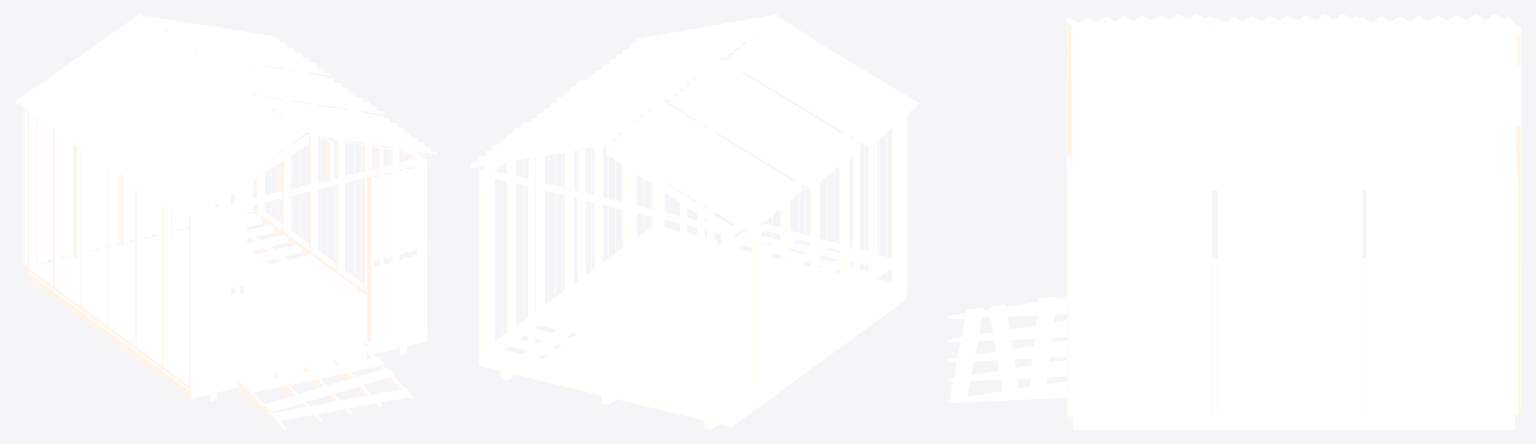
Rendered from shack.gltf.
3 renders of one model, left to right at view 1: azimuth 30°, elevation 25°; view 2: azimuth 150°, elevation 25°; view 3: azimuth 270°, elevation 25°, orthographic. The views are drawn at different scales.
Visible parts, largest first — view 1: Frame, Sheeting..006, Sheeting..004, Sheeting..005, Sheeting. (×2), Floorboards.002, Floorboards.001, Sheeting..008, Sheeting..007, Floorboards.003, Sheeting..011, Sheeting..009 (+11 smaller); view 2: Frame, Sheeting..006, Sheeting..005, Sheeting..004, Floorboards.001, Floorboards.003, Sheeting..011, Sheeting..010, Sheeting..009, Floorboards.002, Floorboards, Floorboards.004 (+6 smaller); view 3: Sheeting..012, Sheeting..014, Sheeting..013, Sheeting..011, Sheeting..010, Sheeting..009, Frame, Sheeting..006, Sheeting..004, Sheeting..005, Sheeting..015, Floorboards (+2 smaller).
Boxes of the visible parts, x1,y1,x2,y2 form: Frame: [27, 19, 426, 429]; Sheeting..006: [15, 14, 200, 139]; Sheeting..004: [124, 94, 307, 219]; Sheeting..005: [71, 55, 254, 179]; Sheeting. (×2): [192, 200, 246, 387]; Floorboards.002: [247, 304, 372, 368]; Floorboards.001: [126, 235, 324, 323]; Sheeting..008: [373, 163, 427, 260]; Sheeting..007: [373, 252, 427, 349]; Floorboards.003: [82, 287, 285, 391]; Sheeting..011: [145, 16, 331, 75]; Sheeting..009: [255, 95, 438, 154]; Frame: [479, 17, 906, 429]; Sheeting..006: [608, 100, 804, 233]; Sheeting..005: [668, 58, 861, 189]; Sheeting..004: [726, 17, 918, 147]; Floorboards.001: [530, 283, 746, 394]; Floorboards.003: [689, 265, 906, 376]; Sheeting..011: [470, 97, 662, 168]; Sheeting..010: [531, 55, 719, 121]; Sheeting..009: [588, 14, 777, 79]; Floorboards.002: [647, 243, 804, 307]; Floorboards: [543, 233, 699, 326]; Floorboards.004: [631, 350, 790, 419]; Sheeting..012: [1366, 185, 1518, 415]; Sheeting..014: [1067, 185, 1212, 415]; Sheeting..013: [1217, 186, 1362, 415]; Sheeting..011: [1359, 29, 1518, 192]; Sheeting..010: [1212, 29, 1366, 192]; Sheeting..009: [1070, 30, 1219, 191]; Frame: [948, 22, 1514, 429]; Sheeting..006: [1359, 14, 1519, 32]; Sheeting..004: [1065, 14, 1224, 32]; Sheeting..005: [1213, 14, 1368, 33]; Sheeting..015: [1516, 125, 1520, 411]; Floorboards: [1072, 387, 1367, 419].
Bounding box in the file's own units: 2.75 × 2.44 × 3.79.
